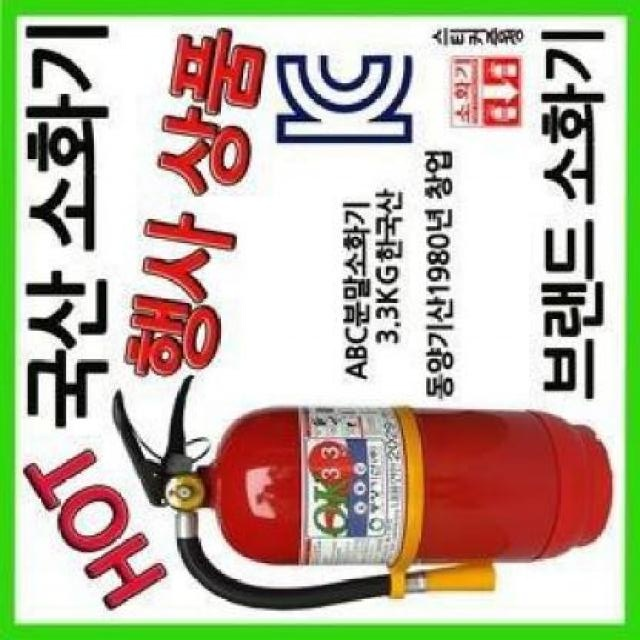fire extinguisher: (111, 376, 612, 610)
